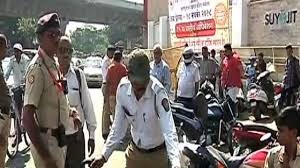helmet: (183, 47, 195, 63)
